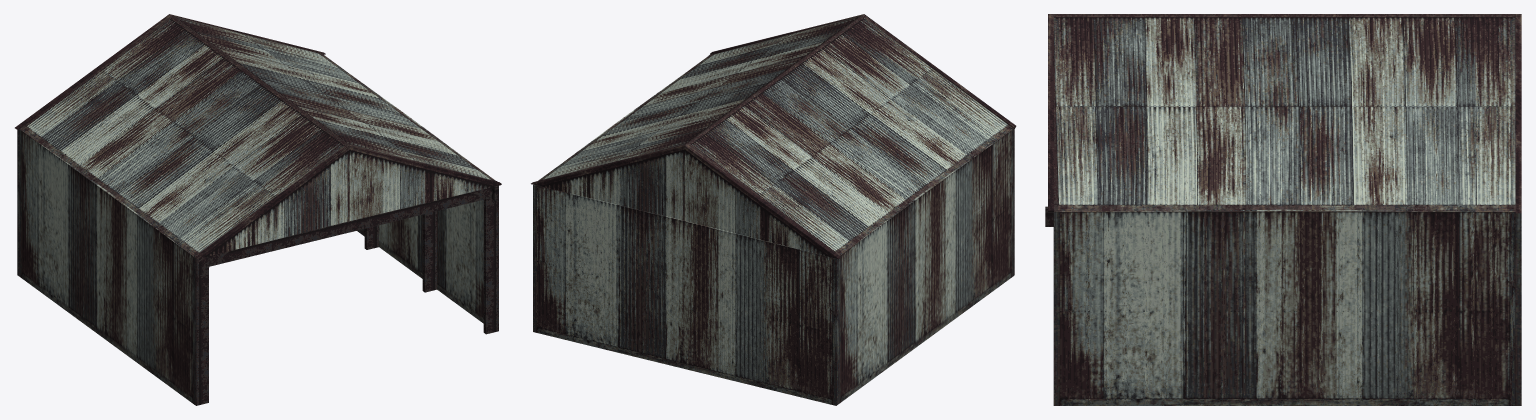
Rendered from SM_EC_Barn_04.fbx.
The picture shows the model from 3 angles, left to right: view 1: azimuth 30°, elevation 25°; view 2: azimuth 150°, elevation 25°; view 3: azimuth 270°, elevation 25°; orthographic projection. The views are drawn at different scales.
Visible parts, largest first — view 1: SM_EC_Barn_04; view 2: SM_EC_Barn_04; view 3: SM_EC_Barn_04.
Boxes of the visible parts, bbox=[...] form: SM_EC_Barn_04: bbox=[15, 14, 501, 405]; SM_EC_Barn_04: bbox=[531, 14, 1016, 405]; SM_EC_Barn_04: bbox=[1045, 14, 1521, 405].
Bounding box in the file's own units: 7.73 × 7.83 × 5.34.
